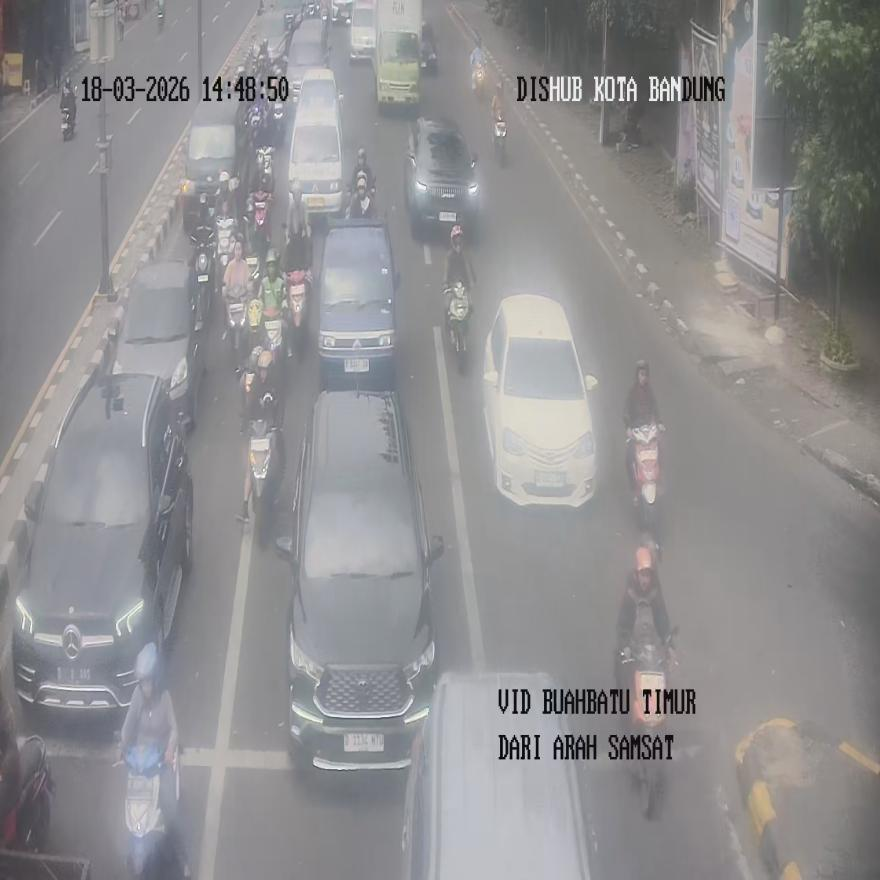Mobil: (12, 364, 193, 724), (275, 386, 444, 771), (400, 672, 593, 880), (481, 294, 598, 508), (109, 261, 205, 431), (316, 219, 400, 388), (405, 116, 478, 238), (288, 68, 345, 223)
Motor: (618, 630, 679, 818), (121, 742, 180, 880), (0, 734, 55, 854), (239, 419, 281, 546), (626, 422, 664, 536), (224, 252, 259, 350), (189, 224, 216, 325), (444, 282, 470, 371), (285, 269, 311, 358), (244, 189, 272, 261), (215, 214, 236, 275), (347, 171, 373, 218), (254, 145, 274, 192), (421, 21, 437, 74), (60, 98, 76, 140), (494, 118, 506, 166), (472, 60, 485, 101), (156, 0, 164, 33)
